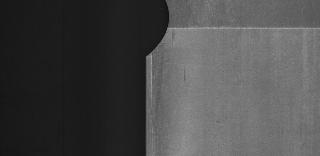welding line: (162, 24, 320, 34)
